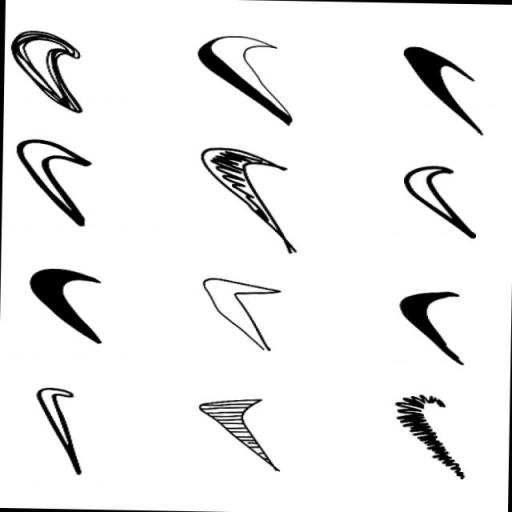Nike: (22, 264, 112, 347)
